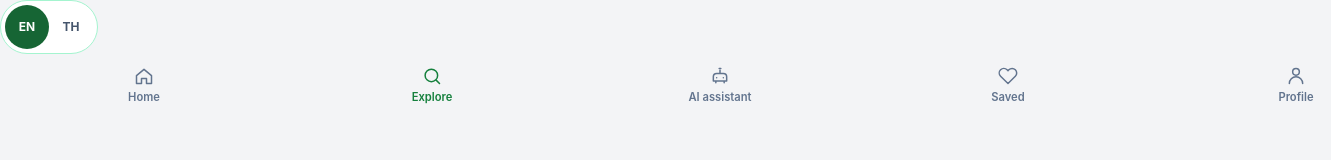
Test: M2 traveler experience › uses one locale source for shared navigation and switches to Thai
The width and height of the screenshot is (1331, 160).
Click the button "TH". click: (71, 27)
box: 49,5 -> 93,49
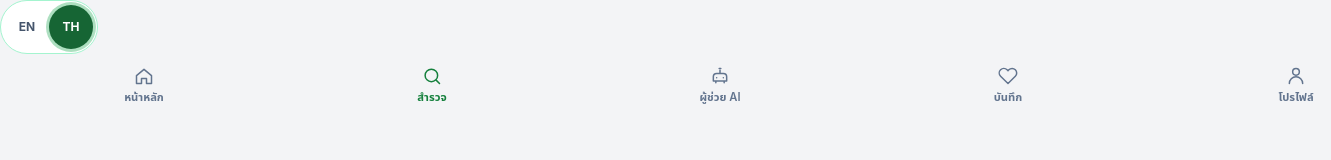
expect the link "สำรวจ" is shown: met, box 417,66 -> 447,106
